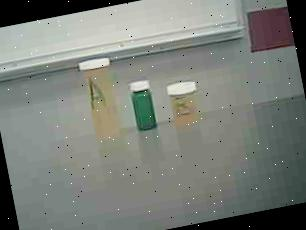Bottle A: (76, 52, 132, 148)
Bottle B: (161, 75, 210, 131)
Bottle C: (124, 74, 164, 136)
